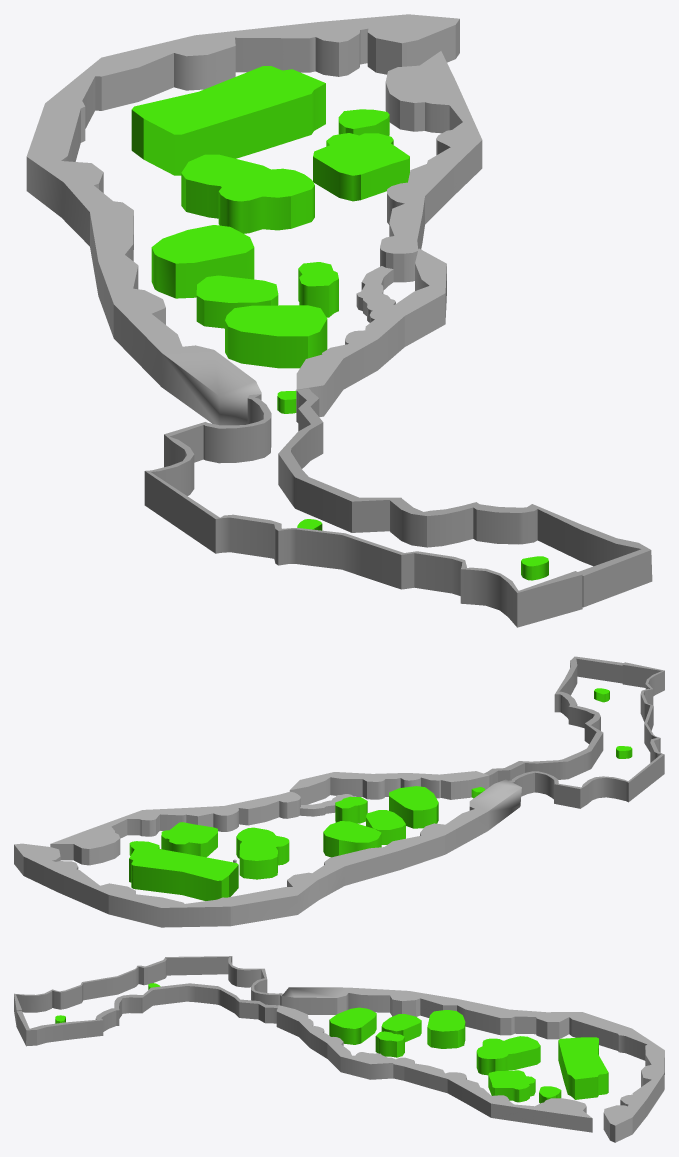
The model's file is colliders_lvl1.fbx.
3 views of the same model, one above another, from view 1: azimuth 30°, elevation 25°; view 2: azimuth 150°, elevation 25°; view 3: azimuth 270°, elevation 25° (orthographic). The views are drawn at different scales.
Visible parts, largest first — view 1: Collider_01, Collider_14, Collider_13, Collider_04, Collider_02, Collider_12, Collider_05, Collider_08, Collider_06, Collider_03, Collider_07, Collider_09 (+2 smaller); view 2: Collider_01, Collider_02, Collider_14, Collider_13, Collider_04, Collider_12, Collider_05, Collider_08, Collider_06, Collider_03, Collider_07, Collider_09 (+1 smaller); view 3: Collider_01, Collider_14, Collider_13, Collider_02, Collider_12, Collider_04, Collider_05, Collider_08, Collider_06, Collider_03, Collider_07, Collider_09 (+1 smaller).
Boxes of the visible parts, x1,y1,x2,y2 form: Collider_01: (26, 14, 459, 425); Collider_14: (144, 394, 582, 627); Collider_13: (278, 388, 652, 607); Collider_04: (131, 66, 325, 175); Collider_02: (380, 51, 482, 282); Collider_12: (296, 248, 446, 420); Collider_05: (181, 154, 314, 233); Collider_08: (225, 305, 327, 368); Collider_06: (151, 225, 254, 298); Collider_03: (313, 133, 409, 201); Collider_07: (196, 275, 278, 328); Collider_09: (298, 262, 338, 317); Collider_01: (14, 779, 521, 927); Collider_02: (50, 792, 300, 865); Collider_14: (509, 662, 664, 808); Collider_13: (484, 656, 623, 786); Collider_04: (129, 847, 238, 900); Collider_12: (289, 771, 489, 804); Collider_05: (236, 827, 289, 879); Collider_08: (389, 786, 438, 828); Collider_06: (323, 821, 381, 857); Collider_03: (161, 822, 217, 857); Collider_07: (366, 810, 405, 844); Collider_09: (335, 796, 367, 823); Collider_01: (281, 987, 664, 1142); Collider_14: (14, 956, 282, 1026); Collider_13: (16, 983, 278, 1046); Collider_02: (393, 1057, 592, 1132); Collider_12: (276, 1005, 393, 1079); Collider_04: (558, 1037, 608, 1099); Collider_05: (476, 1036, 540, 1075); Collider_08: (329, 1007, 376, 1044); Collider_06: (427, 1010, 465, 1048); Collider_03: (488, 1070, 535, 1102); Collider_07: (381, 1014, 421, 1042); Collider_09: (375, 1031, 404, 1057).
Bounding box in the file's own units: 171 × 10.18 × 276.
